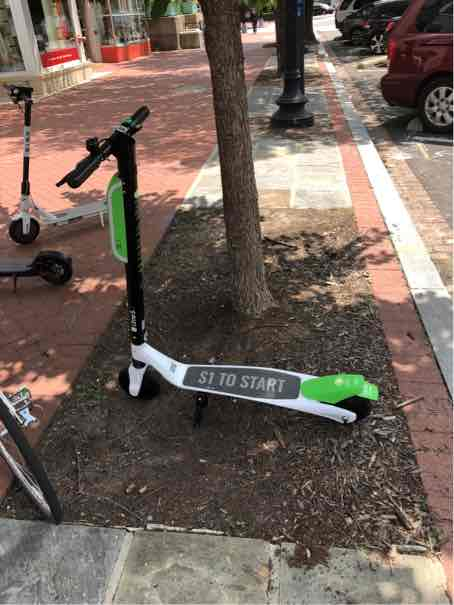scooter: (59, 94, 382, 434)
